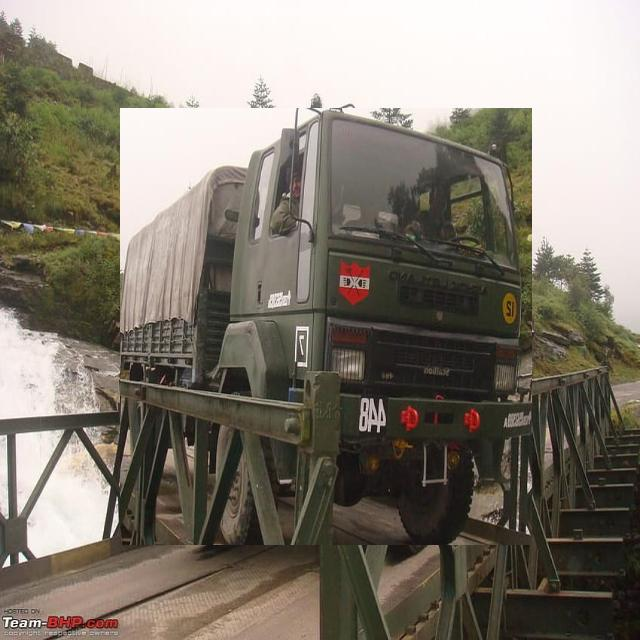truck: (120, 109, 532, 545)
